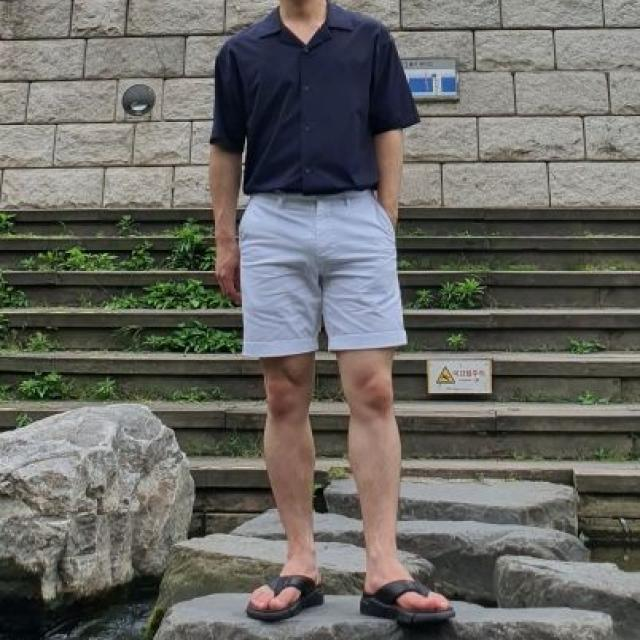shirt: (208, 2, 419, 194)
shortpants: (239, 188, 407, 354)
